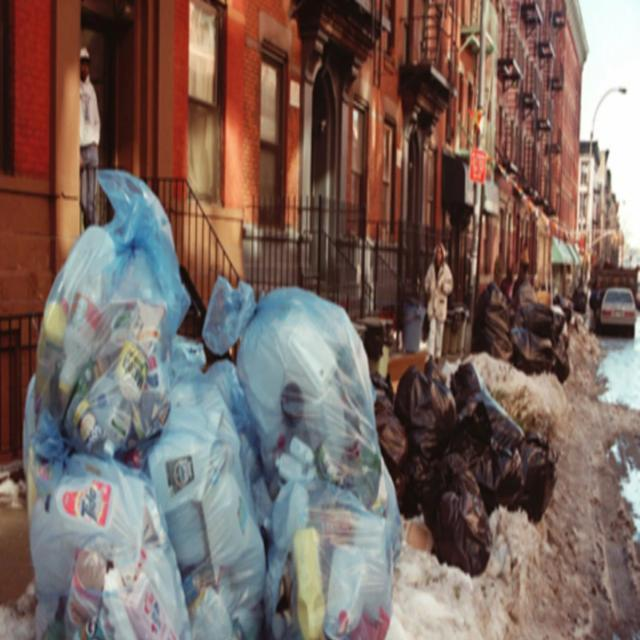high trash: (25, 171, 555, 639)
